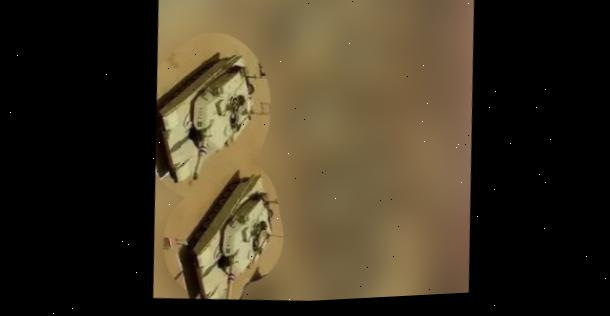tank: (149, 40, 266, 188), (168, 164, 283, 305)
